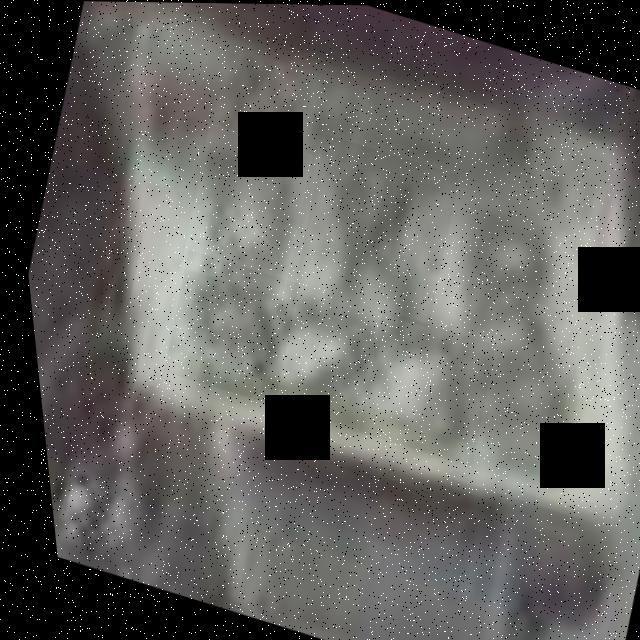3: (338, 308, 498, 466)
5: (239, 281, 407, 439)
9: (145, 248, 303, 405)
B: (412, 189, 584, 357)
K: (275, 132, 468, 327)
P: (163, 121, 321, 298)
